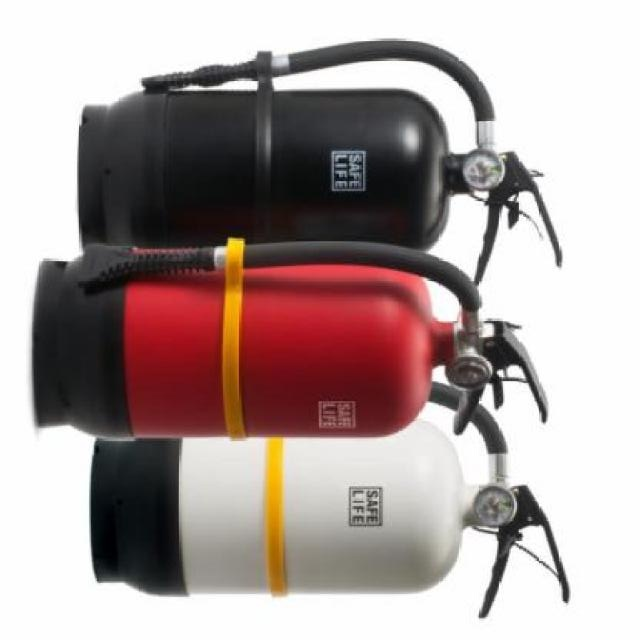fire extinguisher: (76, 39, 562, 288), (91, 380, 571, 618), (33, 241, 550, 439)
